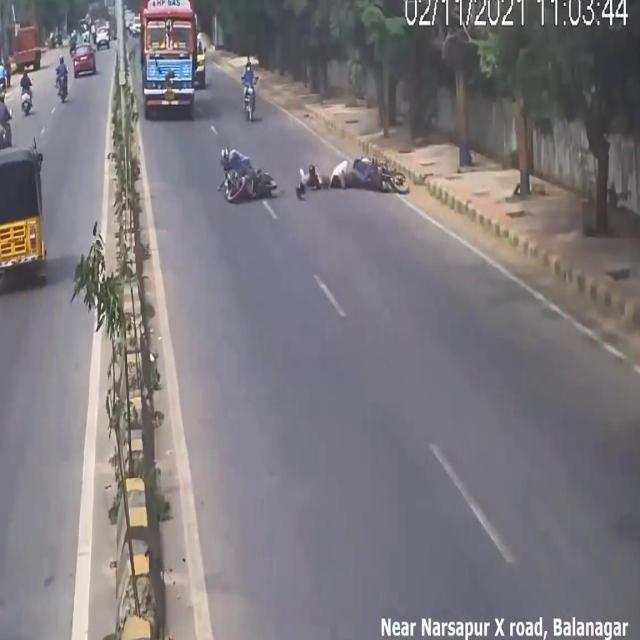accident: (216, 118, 407, 218)
non_accident: (0, 76, 57, 313), (135, 0, 215, 120), (83, 0, 117, 69)
